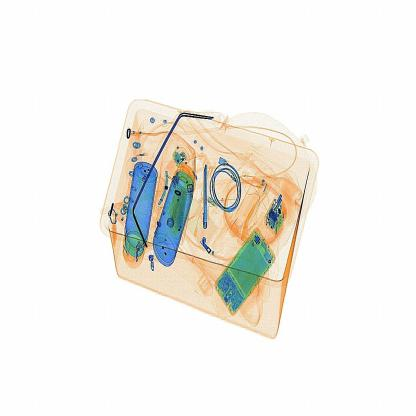pliers: (194, 155, 218, 238)
